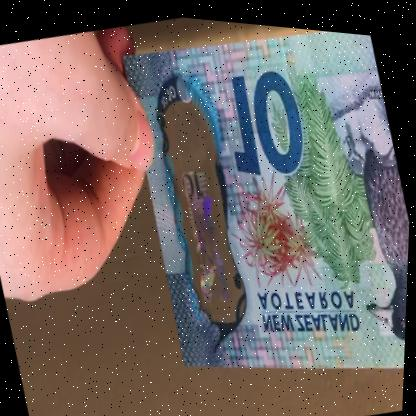10F: (160, 112, 247, 307)
